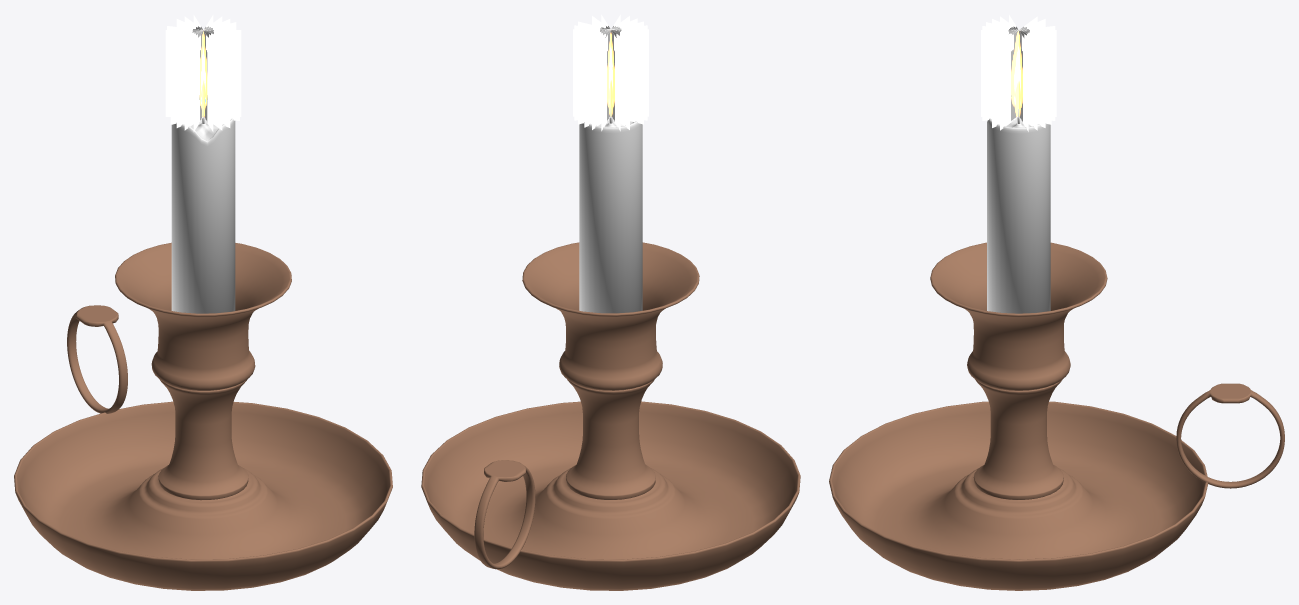
The model's file is uploads_files_3664014_candle+holder.glb.
3 renders of one model, left to right at view 1: azimuth 30°, elevation 25°; view 2: azimuth 150°, elevation 25°; view 3: azimuth 270°, elevation 25°, orthographic.
Parts seen in each view (by area): view 1: Circle, Plane.038; view 2: Circle, Plane.038; view 3: Circle, Plane.038.
Boxes of the visible parts, x1,y1,x2,y2 form: Circle: (14,118,392,590); Plane.038: (165,15,241,131); Circle: (421,119,800,590); Plane.038: (573,14,648,131); Circle: (829,118,1284,590); Plane.038: (981,15,1056,131).
Bounding box in the file's own units: 0.1232 × 0.1775 × 0.148.
